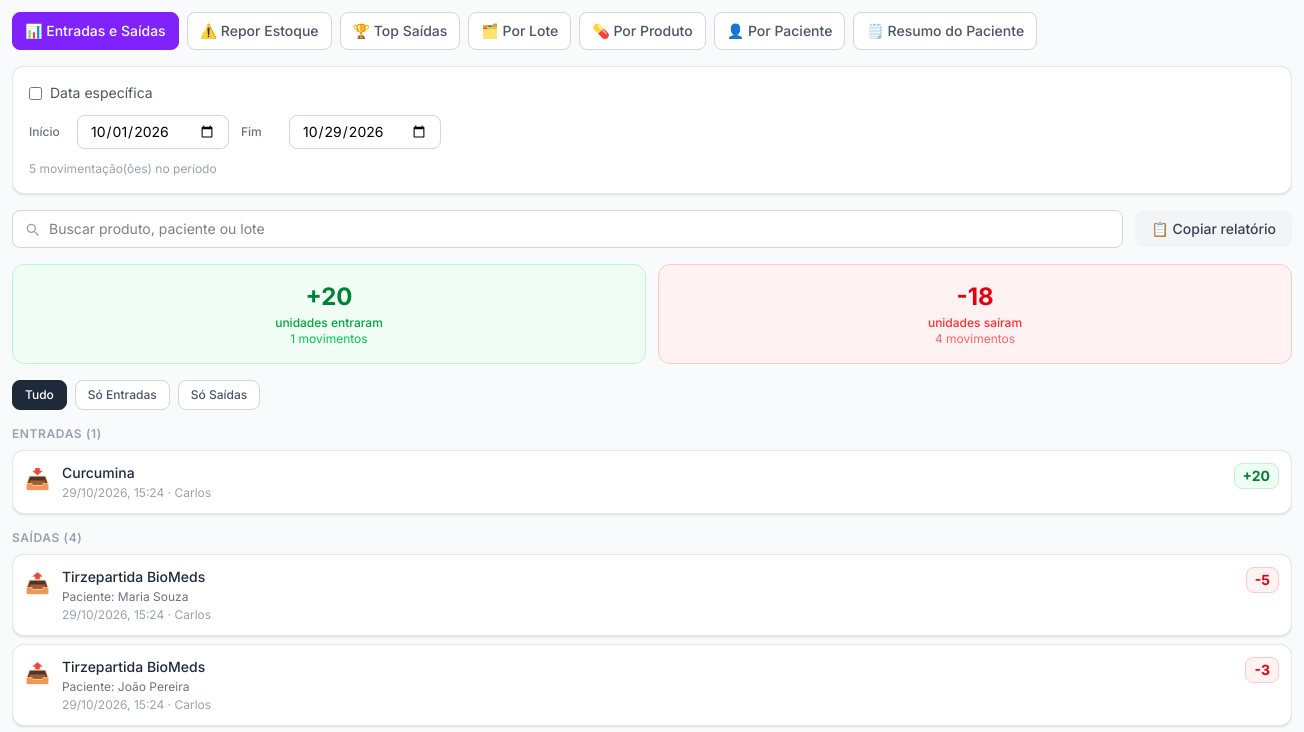
Scenario: RelatoriosTab — busca › Entradas e Saídas: acha por paciente e por lote
Type "joao" into the search field at {"x": 568, "y": 229}, box [12, 210, 1123, 248]
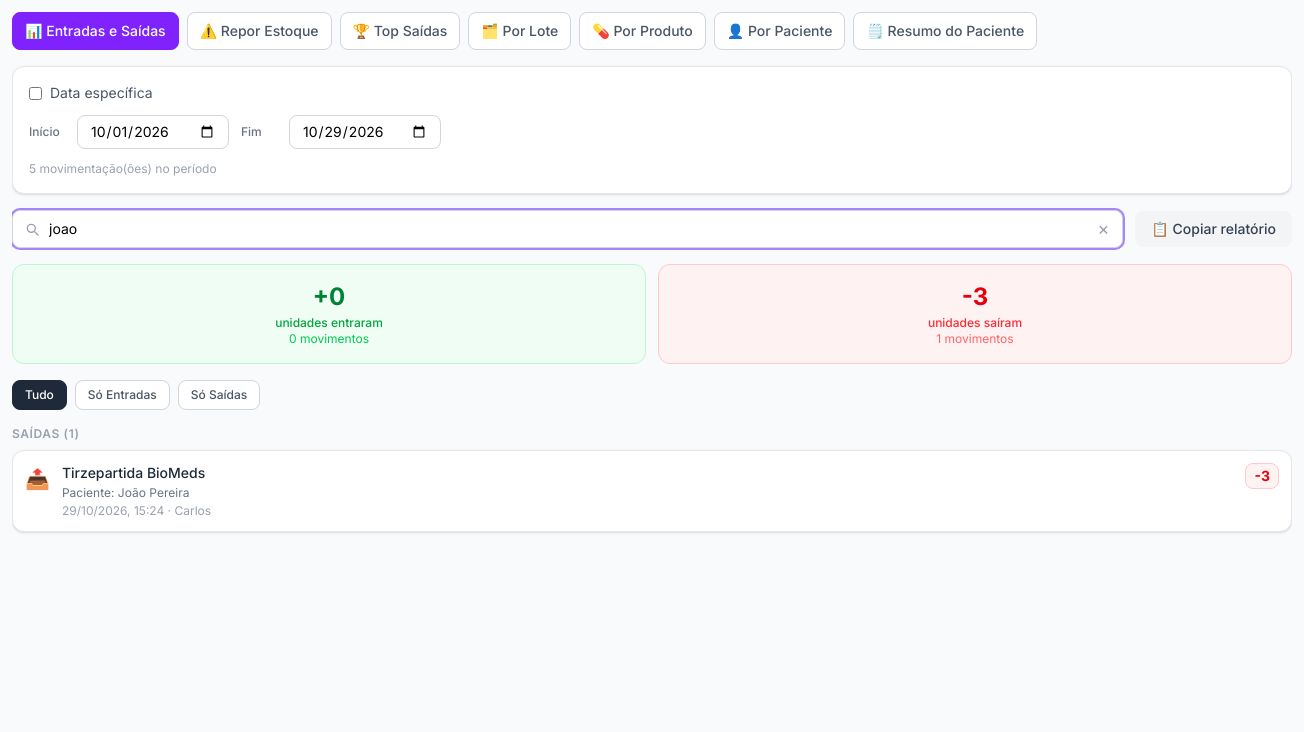
Expected: the text "Tirzepartida BioMeds" is shown, [62, 464, 205, 481]
Replace the text in the search field with "l-777" at {"x": 568, "y": 229}, box [12, 210, 1123, 248]
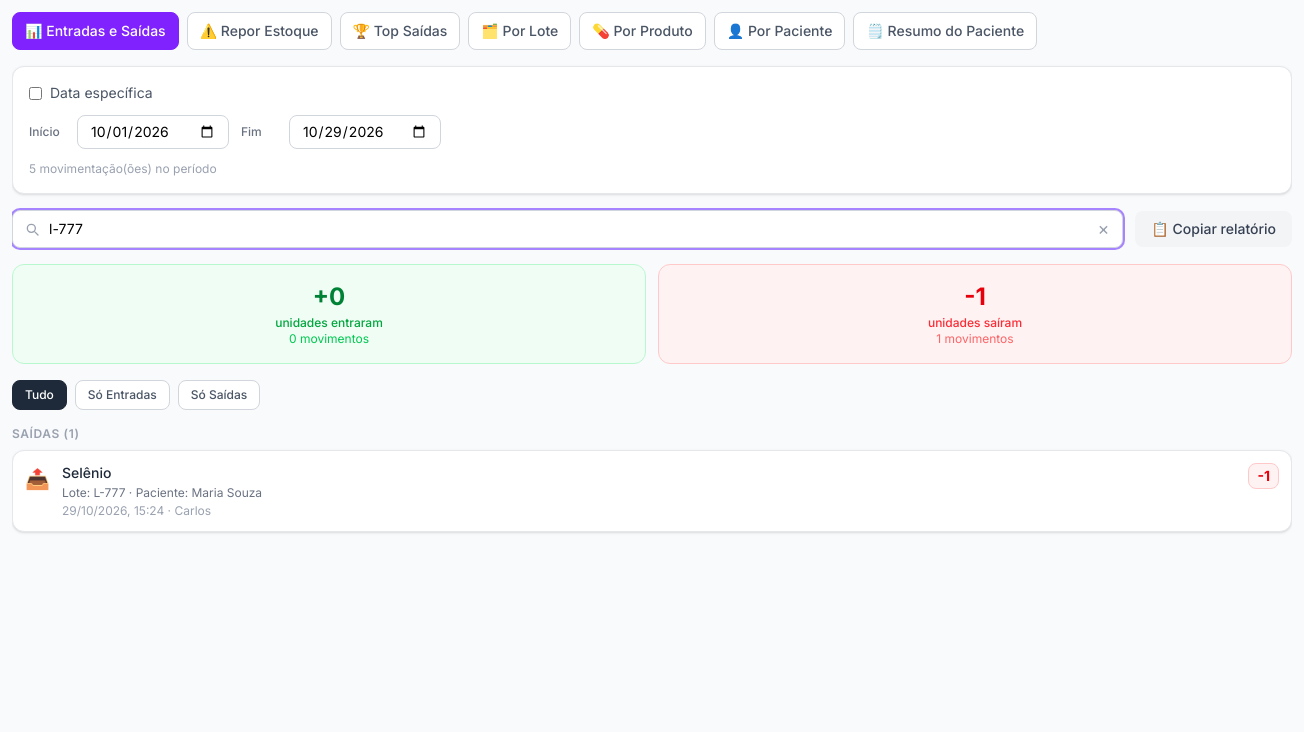
Expected: the text "Selênio" is shown, [62, 464, 111, 481]
Expected: the text "Curcumina" is gone
